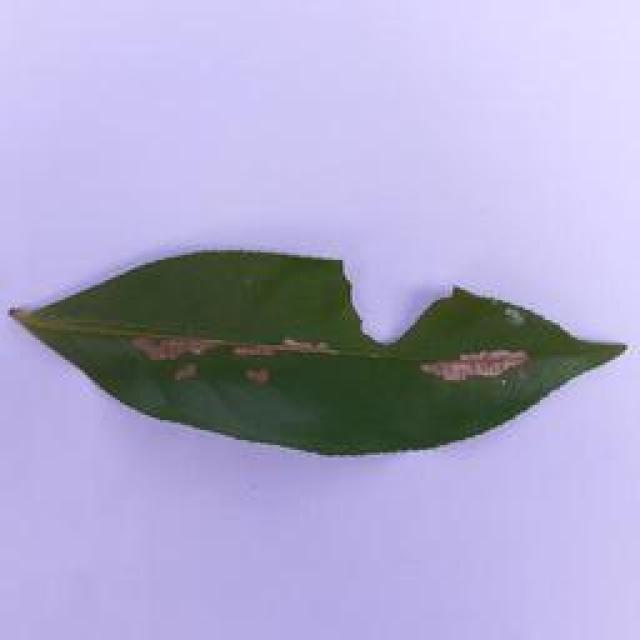Gray Blight: (9, 243, 630, 464)
